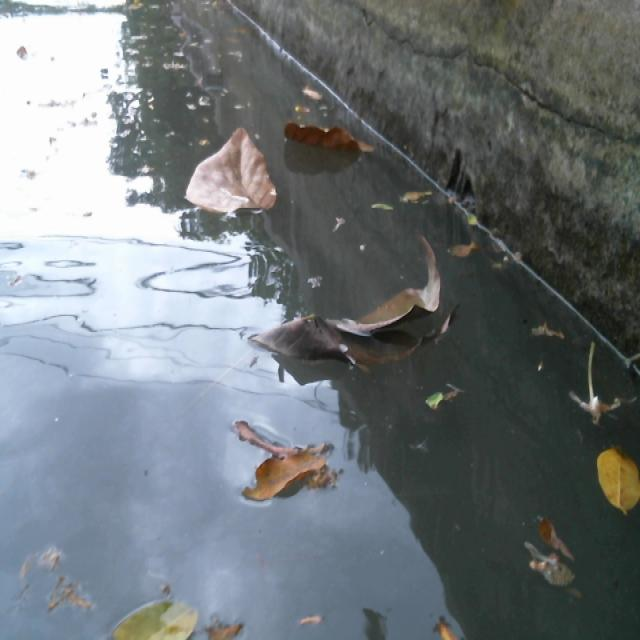Big-leaf: (238, 243, 453, 382), (225, 419, 348, 544), (176, 118, 279, 232), (280, 107, 382, 172)
Small-leaf: (515, 507, 585, 591), (108, 585, 202, 640), (589, 450, 640, 525), (189, 612, 261, 640), (525, 315, 567, 352), (294, 79, 328, 114), (452, 234, 485, 265), (430, 611, 462, 640), (370, 199, 398, 218), (405, 184, 437, 200)
